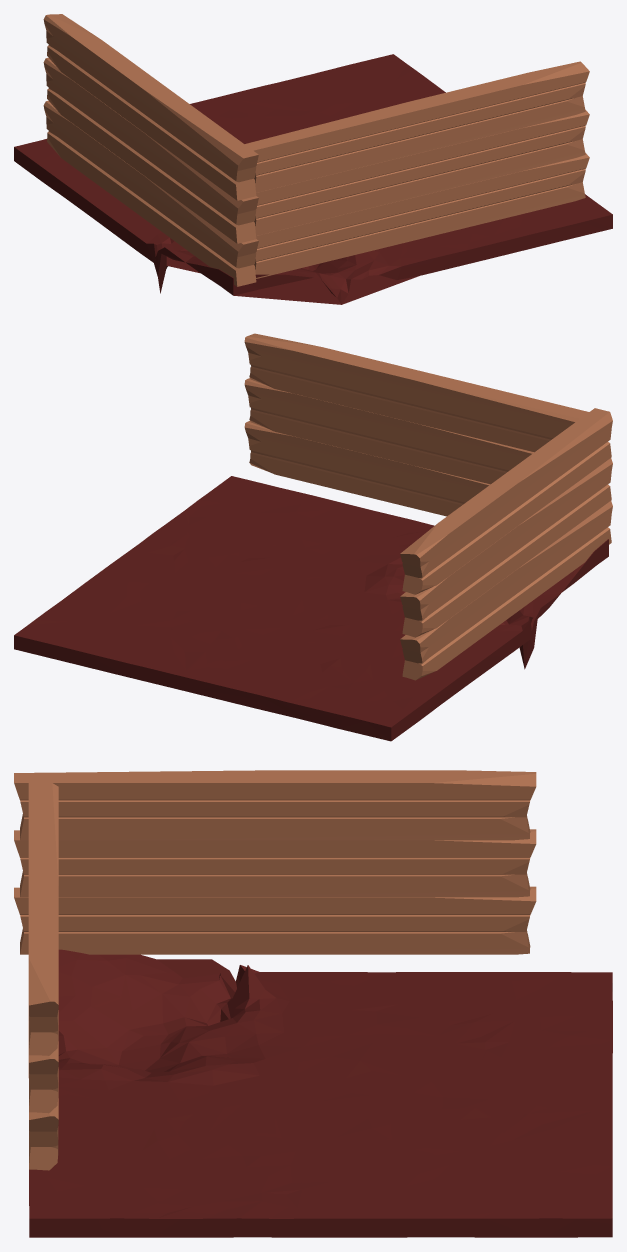
The model's file is Environment.fbx.
3 views of the same model, one above another, from view 1: azimuth 30°, elevation 25°; view 2: azimuth 150°, elevation 25°; view 3: azimuth 270°, elevation 25° (orthographic). The views are drawn at different scales.
Visible parts, largest first — view 1: Plane.002; view 2: Plane.002; view 3: Plane.002.
Part boxes in pixels (x1=…): Plane.002: x1=14, y1=14, x2=612, y2=304; Plane.002: x1=14, y1=333, x2=612, y2=741; Plane.002: x1=14, y1=770, x2=612, y2=1237.
Size of the model in its own units: 18.19 by 9.06 by 18.66.
